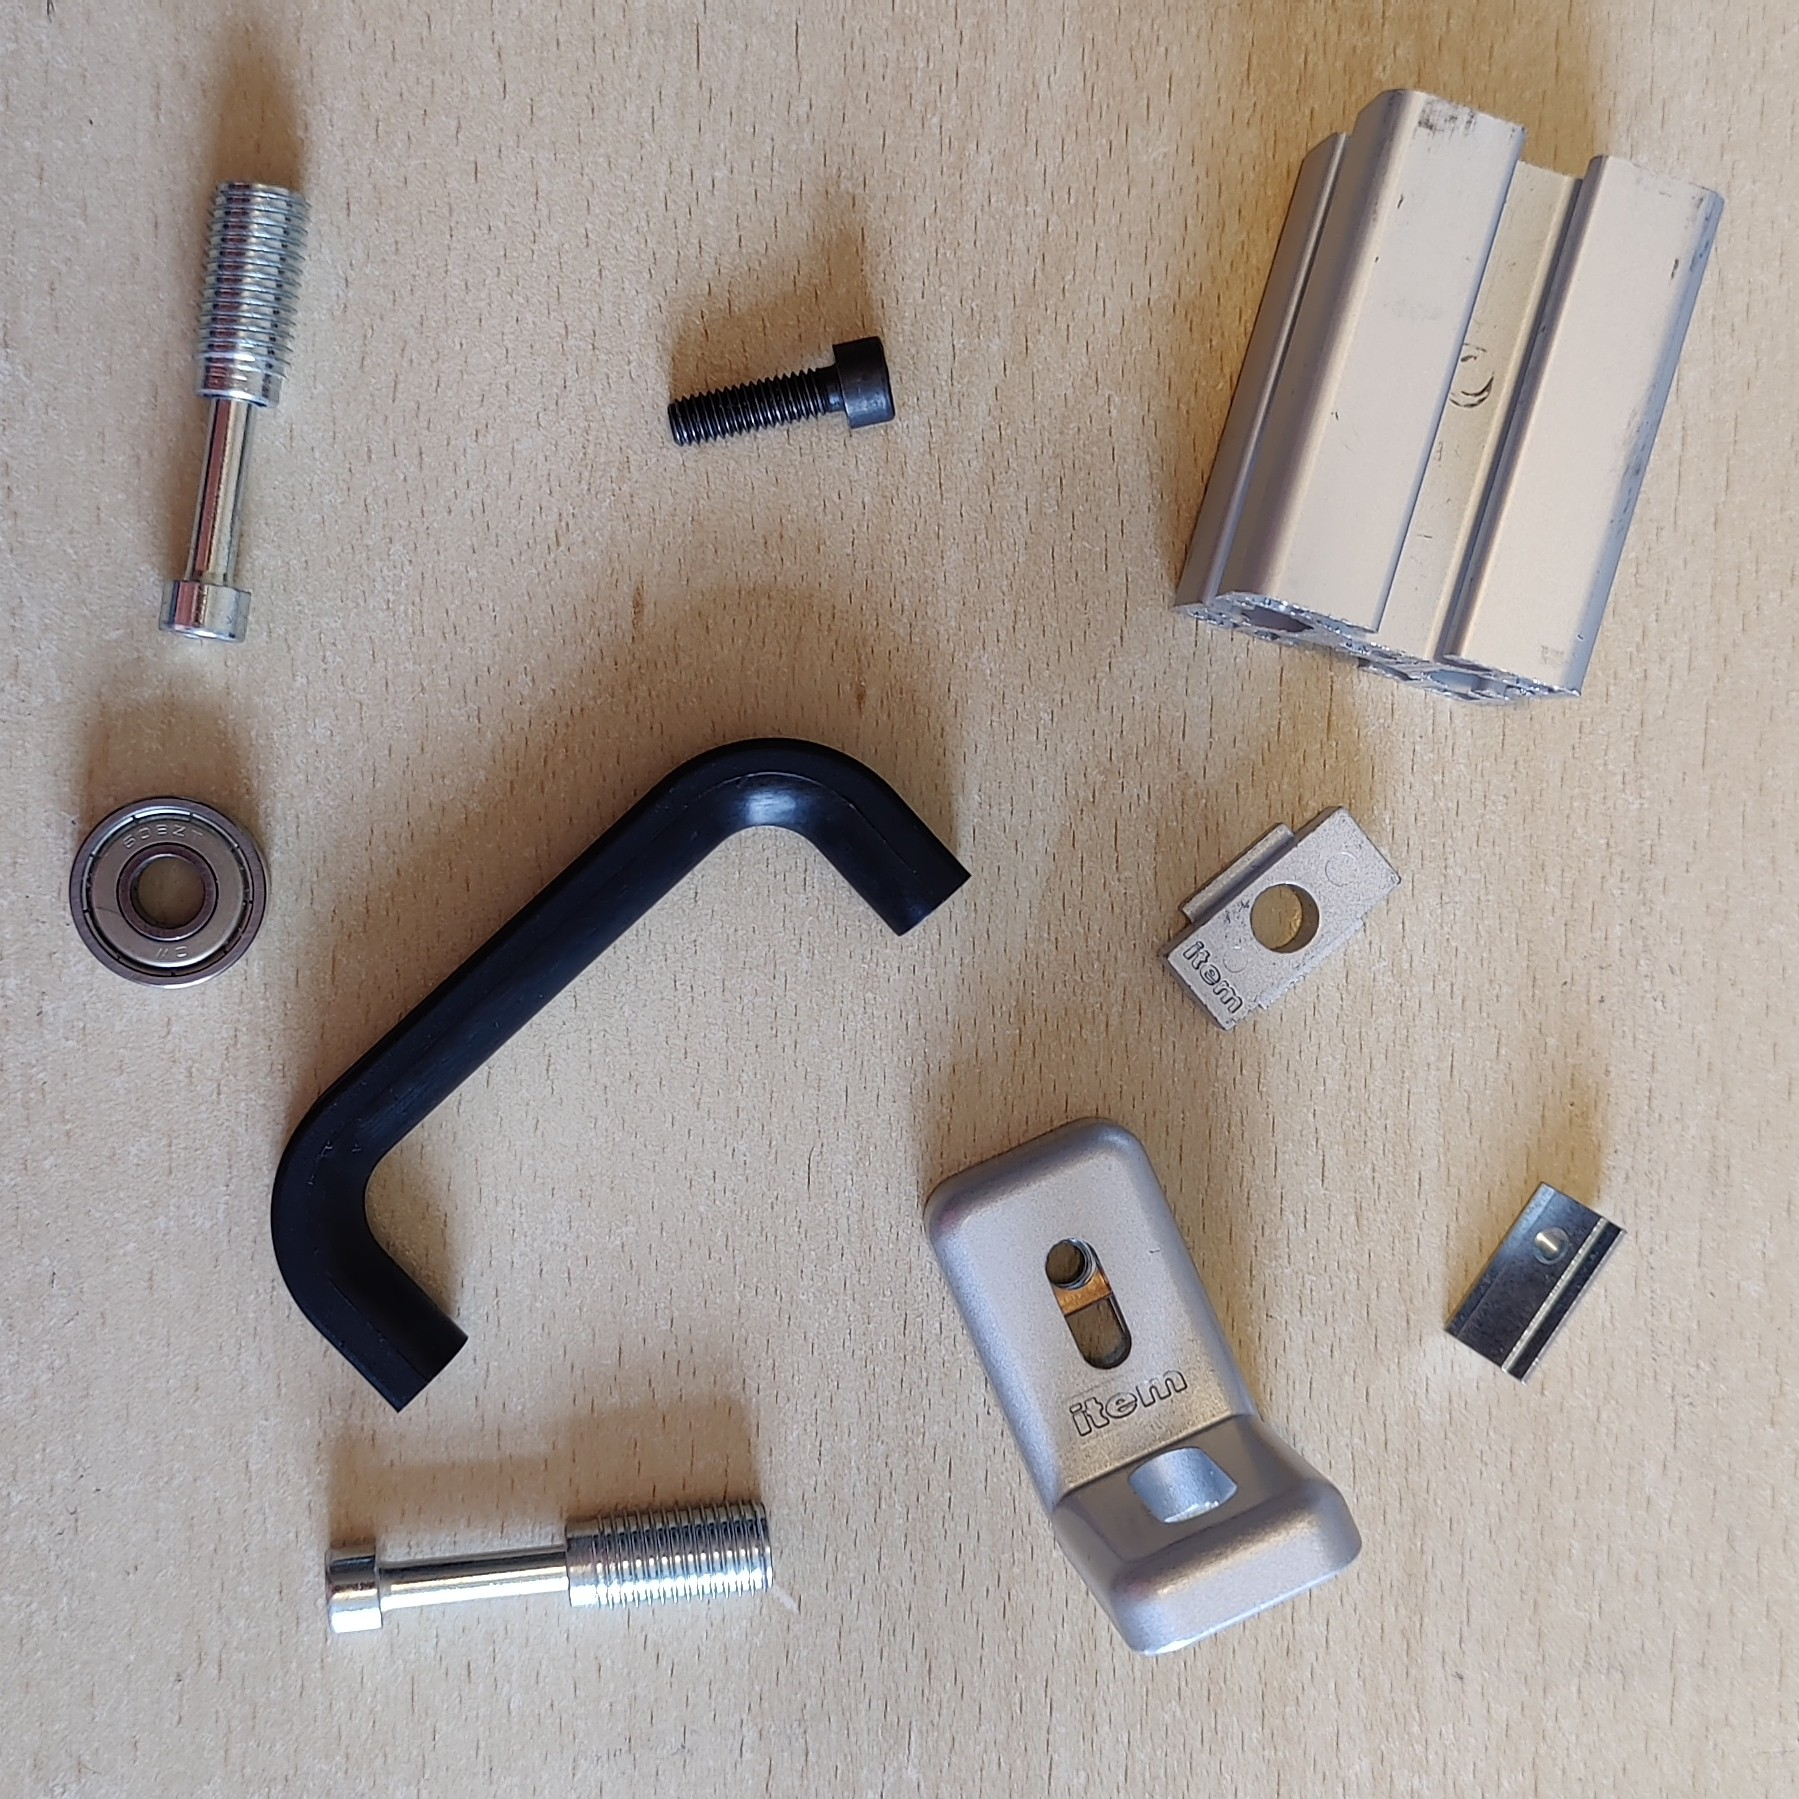Aluminium Extension: (1170, 84, 1728, 712)
Ball Bearing: (66, 791, 272, 990)
Multiwinkel: (919, 1110, 1364, 1661)
Pull Handle: (269, 733, 975, 1418)
Shoulder Socket Head Cap Screw: (155, 173, 315, 647), (320, 1491, 778, 1638)
Socket Head Cap Screw: (664, 331, 899, 451)
T Nut Square: (1153, 801, 1404, 1035)
T Spring Nut: (1442, 1176, 1629, 1389)
